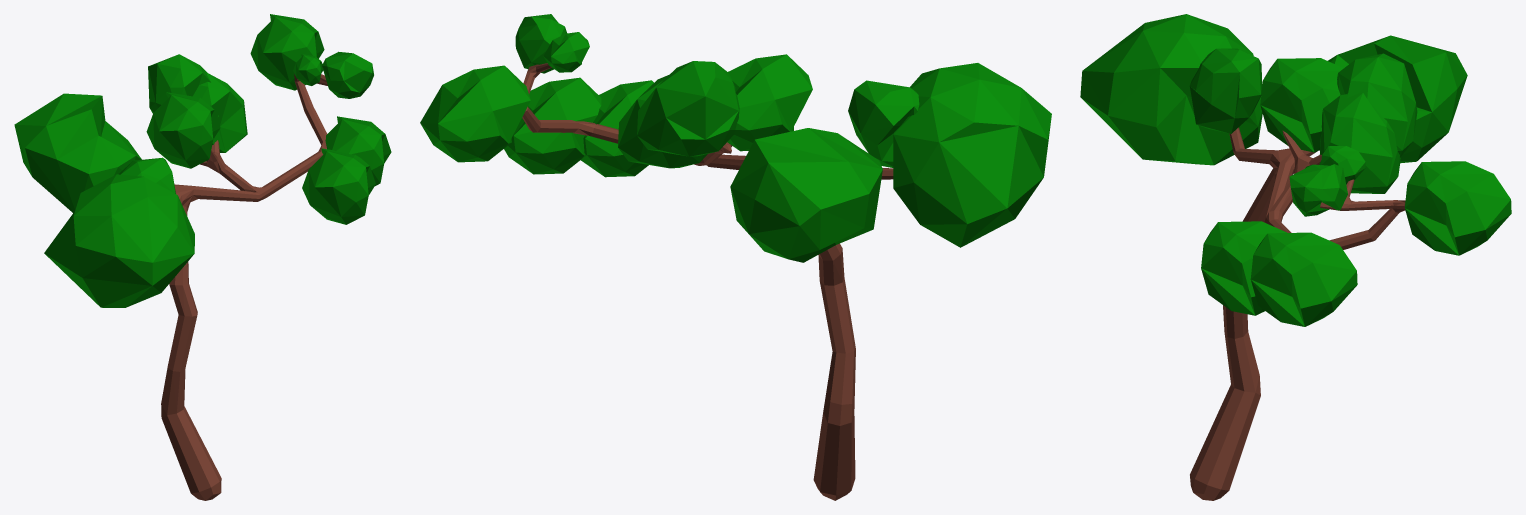
The model's file is tree1.fbx.
3 views of the same model, side by side, from view 1: azimuth 30°, elevation 25°; view 2: azimuth 150°, elevation 25°; view 3: azimuth 270°, elevation 25° (orthographic). The views are drawn at different scales.
Visible parts, largest first — view 1: Icosphere.005, Cube, Icosphere.009, Icosphere.003, Icosphere.007, Icosphere.008, Icosphere.006, Icosphere.002, Icosphere.001, Icosphere.010, Icosphere.004, Icosphere.000; view 2: Icosphere.005, Icosphere.009, Cube, Icosphere.001, Icosphere.008, Icosphere.003, Icosphere.006, Icosphere.004, Icosphere.007, Icosphere.002, Icosphere.010, Icosphere.000; view 3: Icosphere.005, Cube, Icosphere.008, Icosphere.006, Icosphere.009, Icosphere.003, Icosphere.002, Icosphere.004, Icosphere.007, Icosphere.001, Icosphere.010, Icosphere.000.
Boxes of the visible parts, x1,y1,x2,y2 form: Icosphere.005: (44,174,194,307); Cube: (161,74,327,500); Icosphere.009: (14,93,141,212); Icosphere.003: (146,92,220,168); Icosphere.007: (302,148,375,224); Icosphere.008: (250,14,324,90); Icosphere.006: (325,116,391,185); Icosphere.002: (193,72,247,152); Icosphere.001: (148,54,218,116); Icosphere.010: (322,51,373,98); Icosphere.004: (118,157,175,193); Icosphere.000: (293,54,323,85); Icosphere.005: (893,63,1051,247); Icosphere.009: (730,128,882,262); Cube: (522,63,893,500); Icosphere.001: (637,61,739,156); Icosphere.008: (420,65,530,162); Icosphere.003: (727,54,812,151); Icosphere.006: (504,77,601,174); Icosphere.004: (848,80,919,167); Icosphere.007: (581,80,653,177); Icosphere.002: (618,75,707,168); Icosphere.010: (515,14,566,73); Icosphere.000: (543,32,589,72); Icosphere.005: (1080,14,1262,165); Cube: (1190,127,1405,500); Icosphere.008: (1405,161,1511,255); Icosphere.006: (1250,232,1357,326); Icosphere.009: (1328,35,1467,163); Icosphere.003: (1260,58,1343,152); Icosphere.002: (1319,93,1400,193); Icosphere.004: (1189,48,1262,133); Icosphere.007: (1201,221,1287,315); Icosphere.001: (1332,53,1417,157); Icosphere.010: (1289,164,1347,216); Icosphere.000: (1321,146,1365,183).
Bounding box in the file's own units: 553 × 547 × 456.
